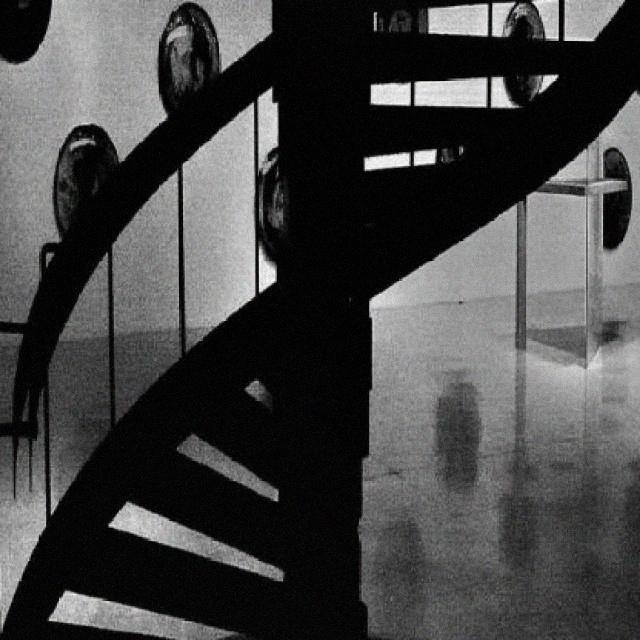stair: (2, 0, 630, 638)
